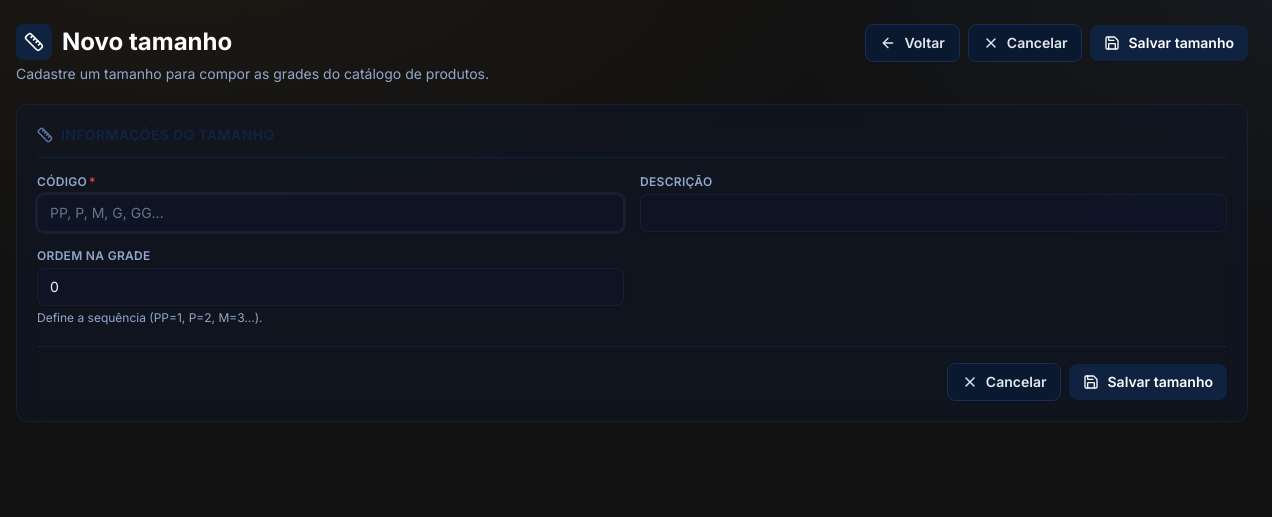
Test: novo tamanho — página própria do ERP › código duplicado (409) mantém a página aberta com a mensagem do servidor no campo
Type "GG" into the field labelled "Código*".
click(330, 213); type("GG")  # box [37,194,624,232]
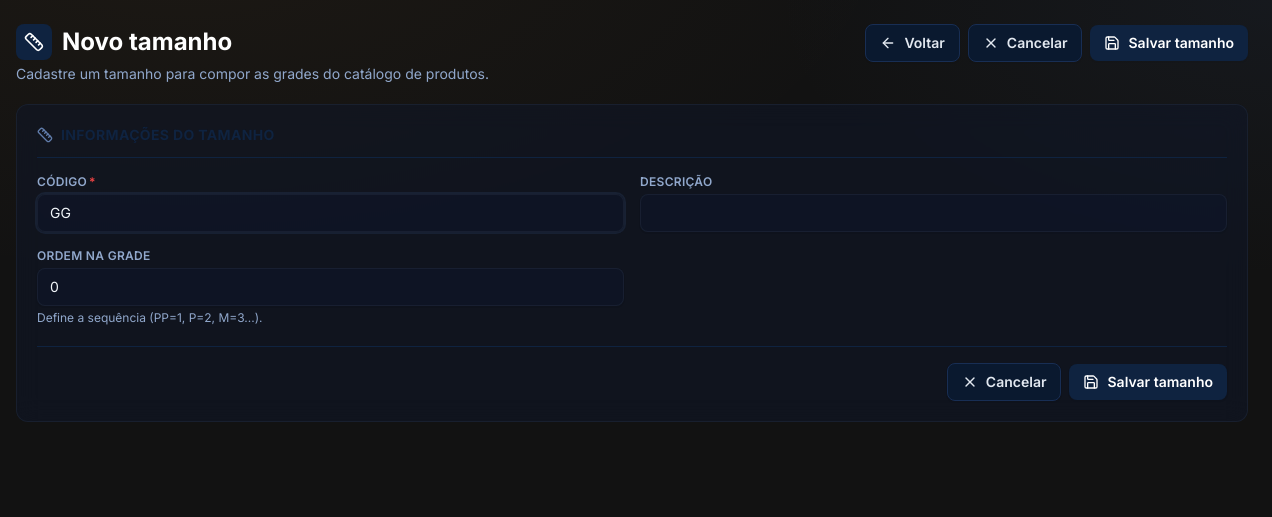
Click the button "Salvar tamanho" in the row of "Voltar".
click(1169, 43)  # box [1090,25,1248,61]
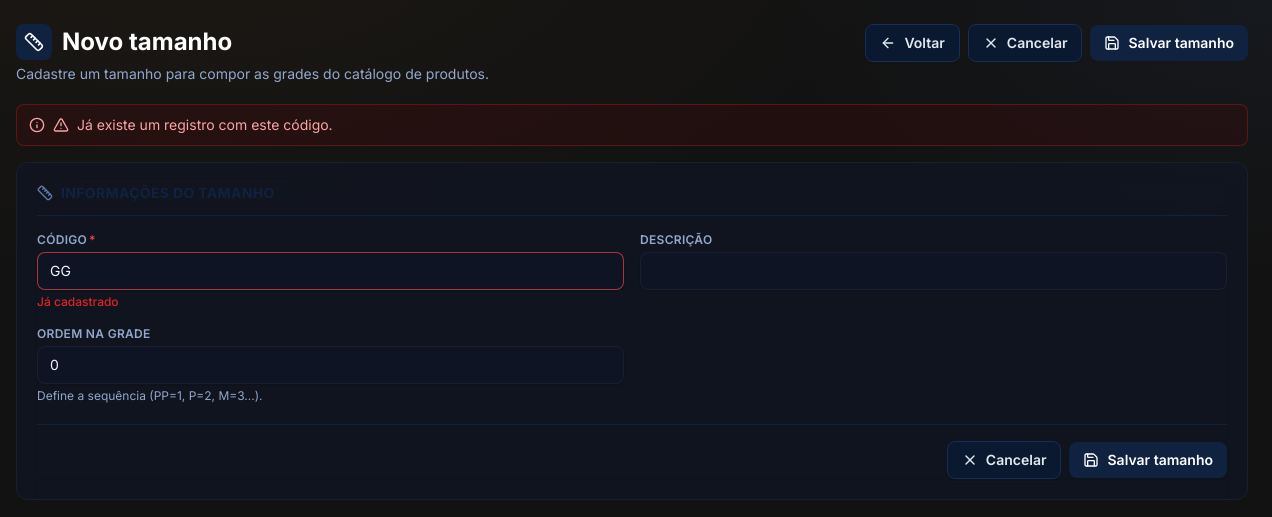
Expected: the heading "Novo tamanho" is shown, [16,24,232,60]
Expected: the text "Já existe um registro com este código." is shown, [77,115,333,135]
